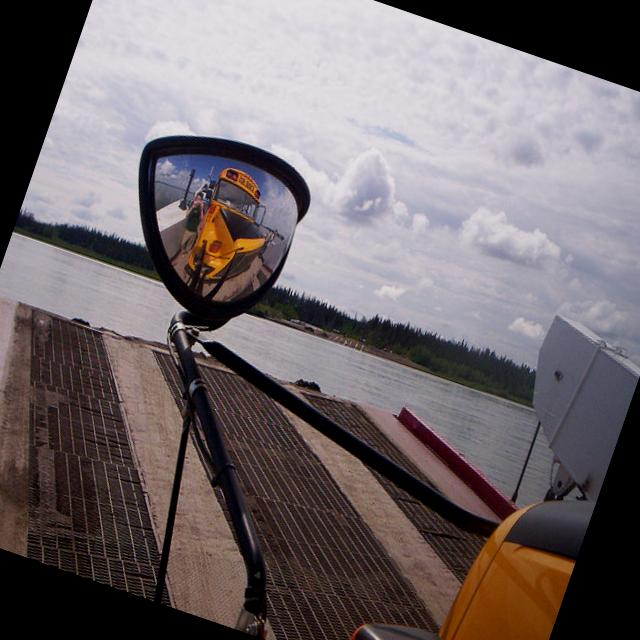Vehicle: (341, 434, 598, 640), (177, 162, 284, 298)
